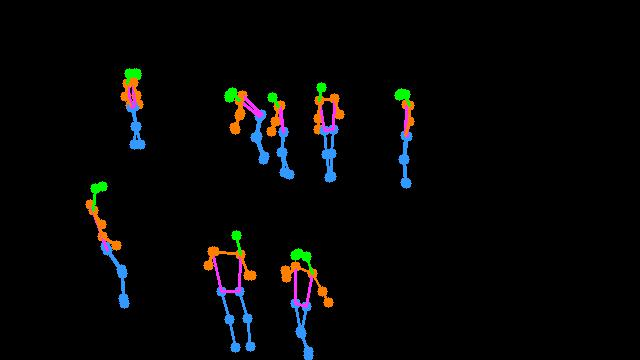normal: (189, 213, 259, 360), (80, 172, 138, 317), (272, 232, 336, 360), (303, 68, 353, 191), (119, 64, 153, 155)
